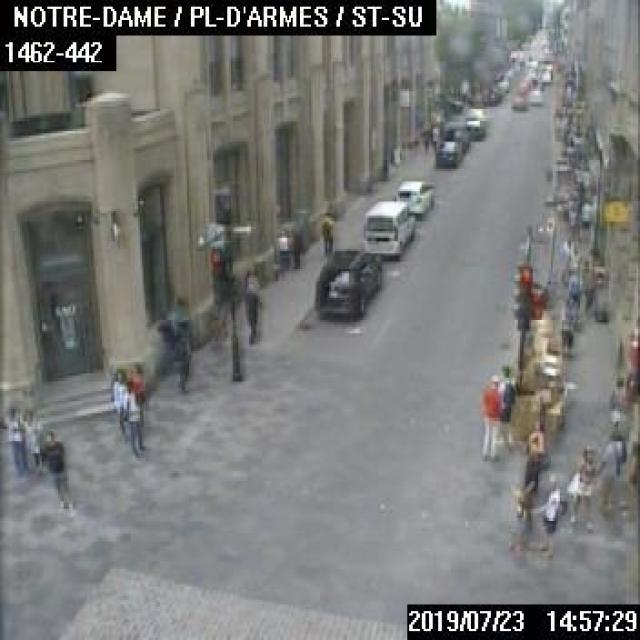pedestrian: (568, 438, 602, 532), (42, 428, 70, 512), (538, 473, 565, 558), (509, 476, 536, 560), (478, 372, 502, 458), (602, 426, 626, 509), (520, 418, 545, 496), (122, 376, 145, 456), (5, 400, 26, 473), (23, 404, 45, 469), (172, 322, 191, 391), (497, 364, 512, 450), (240, 283, 260, 342), (607, 374, 627, 428), (626, 426, 638, 512), (112, 369, 126, 436), (318, 202, 335, 254), (568, 261, 580, 326), (561, 298, 574, 356), (288, 210, 301, 265), (275, 229, 288, 272)
vehicle: (311, 249, 381, 318), (362, 199, 413, 257), (392, 178, 435, 212), (435, 137, 461, 169), (443, 118, 469, 150), (461, 107, 487, 138), (508, 91, 524, 109), (525, 85, 541, 103)
